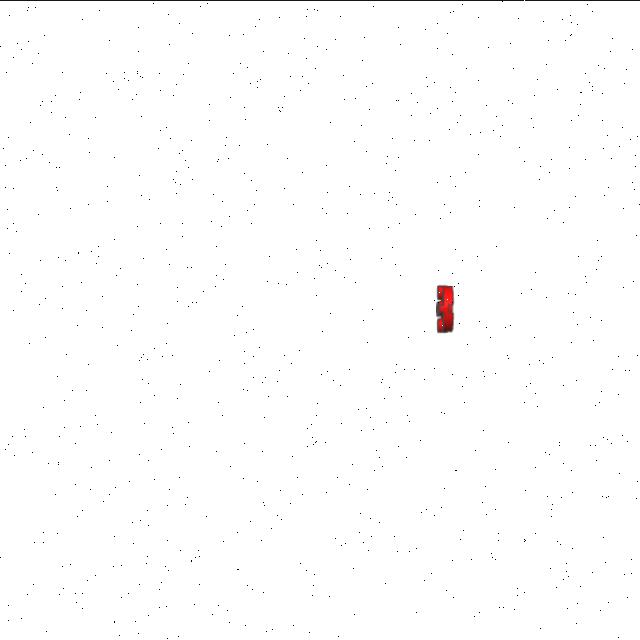4032a: (432, 279, 460, 335)
